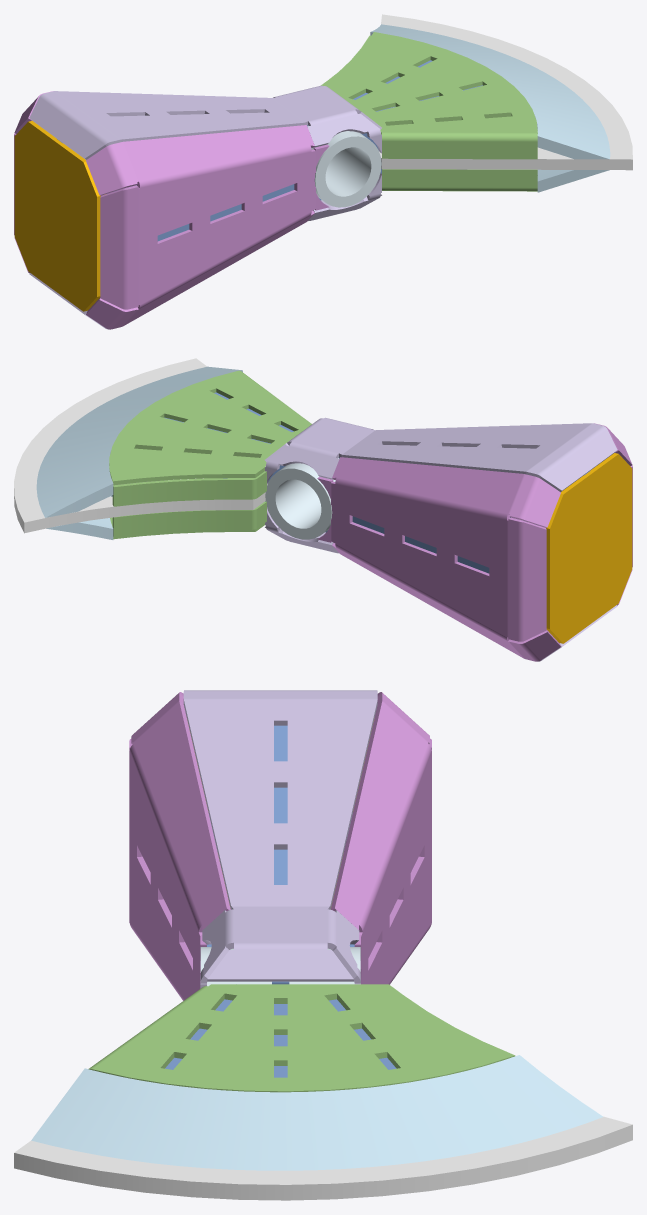
3 views of the same model, one above another, from view 1: azimuth 30°, elevation 25°; view 2: azimuth 150°, elevation 25°; view 3: azimuth 270°, elevation 25° (orthographic). The views are drawn at different scales.
Visible parts, largest first — view 1: Part 14, Part 15, Part 11, Part 5, Part 6, Part 2, Part 3, Part 18, Part 12, Part 17, Part 1; view 2: Part 13, Part 15, Part 11, Part 5, Part 6, Part 2, Part 3, Part 16, Part 19, Part 12, Part 17, Part 1 (+2 smaller); view 3: Part 11, Part 6, Part 15, Part 14, Part 13, Part 2, Part 4, Part 3.
Part boxes in pixels (box(x1,y1,x2,y2)): Part 14: box(86, 125, 329, 329); Part 15: box(321, 32, 537, 159); Part 11: box(29, 85, 381, 159); Part 5: box(14, 120, 100, 311); Part 6: box(370, 24, 610, 159); Part 2: box(379, 14, 632, 170); Part 3: box(307, 125, 381, 207); Part 18: box(382, 169, 537, 191); Part 12: box(29, 173, 381, 329); Part 17: box(537, 169, 609, 192); Part 1: box(157, 184, 294, 241); Part 13: box(317, 457, 560, 661); Part 15: box(109, 370, 311, 485); Part 11: box(265, 417, 617, 492); Part 5: box(546, 453, 632, 643); Part 6: box(36, 366, 242, 517); Part 2: box(14, 358, 267, 533); Part 3: box(265, 458, 338, 539); Part 16: box(112, 471, 266, 506); Part 19: box(112, 501, 266, 536); Part 12: box(265, 507, 617, 661); Part 17: box(46, 495, 113, 539); Part 1: box(352, 516, 489, 573); Part 11: box(183, 690, 377, 988); Part 6: box(31, 1055, 603, 1170); Part 15: box(88, 984, 515, 1092); Part 14: box(129, 692, 230, 1000); Part 13: box(331, 692, 431, 984); Part 2: box(14, 1116, 632, 1200); Part 4: box(272, 725, 289, 1077); Part 3: box(200, 947, 360, 986).
Size of the model in its own units: 0.3302 by 0.1113 by 0.2277.
